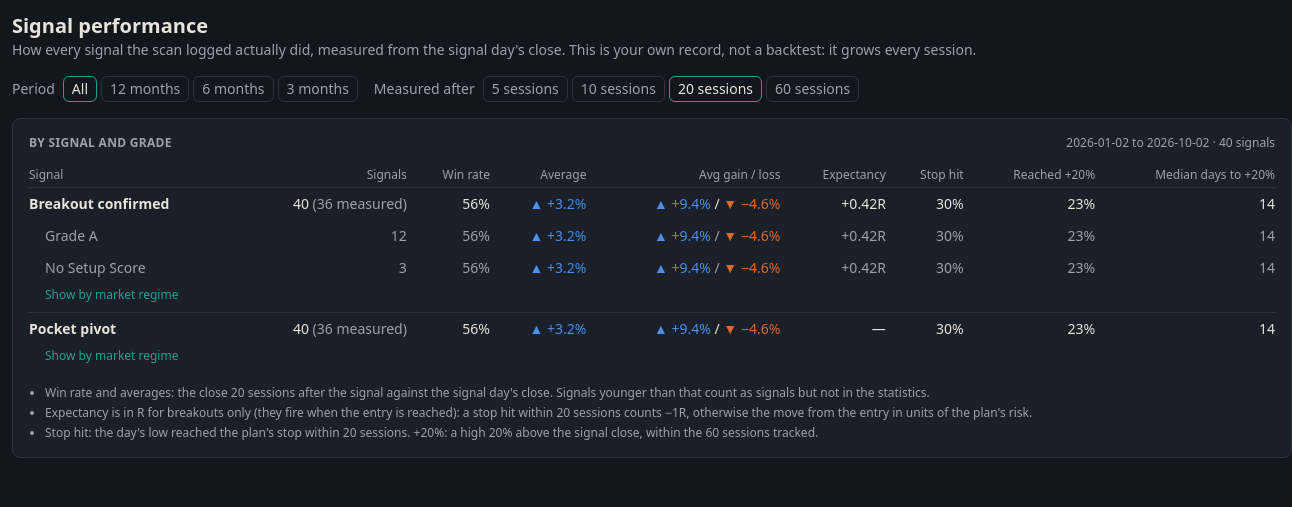
Signal performance › shows each signal by grade, and by regime on request
This screenshot has width=1292, height=507.
Expected: the row "Breakout confirmed" shows "56%", [462, 194, 490, 213]
Expected: the row "Breakout confirmed" shows "+0.42R", [841, 194, 886, 213]
Click the 1st button "Show by market regime" at (112, 295), box [45, 287, 178, 303]
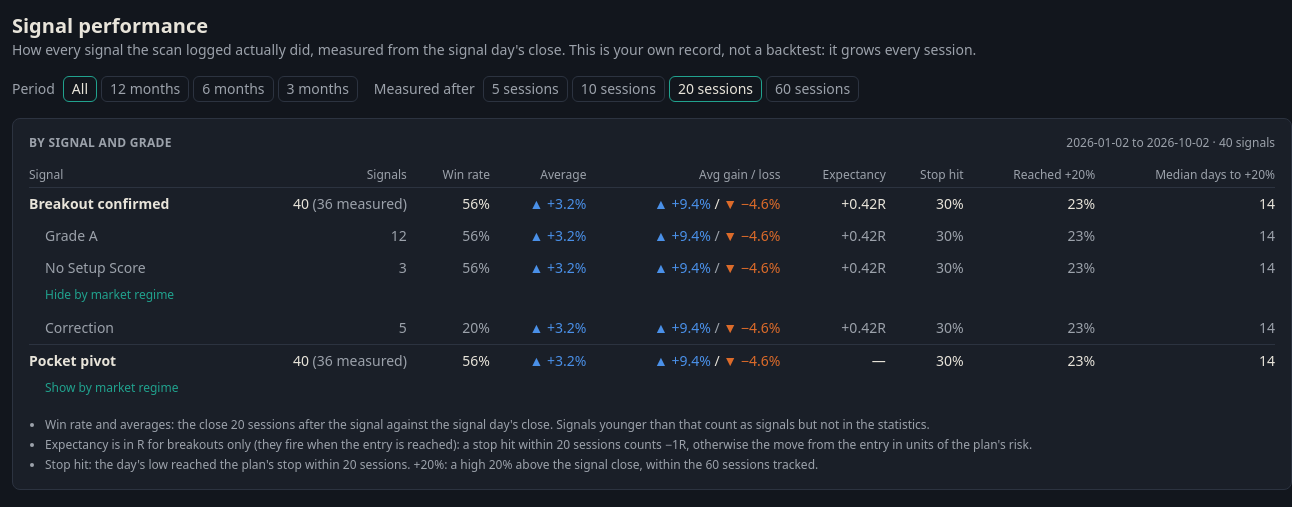
Now the row "Correction" shows "20%", box [462, 318, 490, 337]
